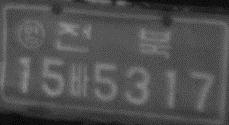1: (159, 69, 184, 110), (14, 55, 37, 95)
3: (123, 64, 152, 107)
5: (93, 63, 118, 101), (41, 59, 64, 97)
7: (190, 69, 215, 113)
바: (67, 62, 90, 100)
영: (15, 18, 46, 51)
전북_D: (55, 18, 171, 59)
